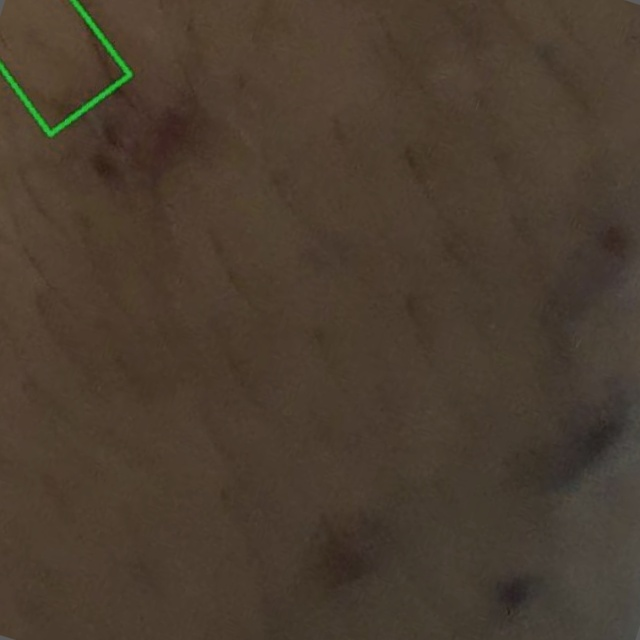Contact Dermatitis: (0, 0, 129, 135)
